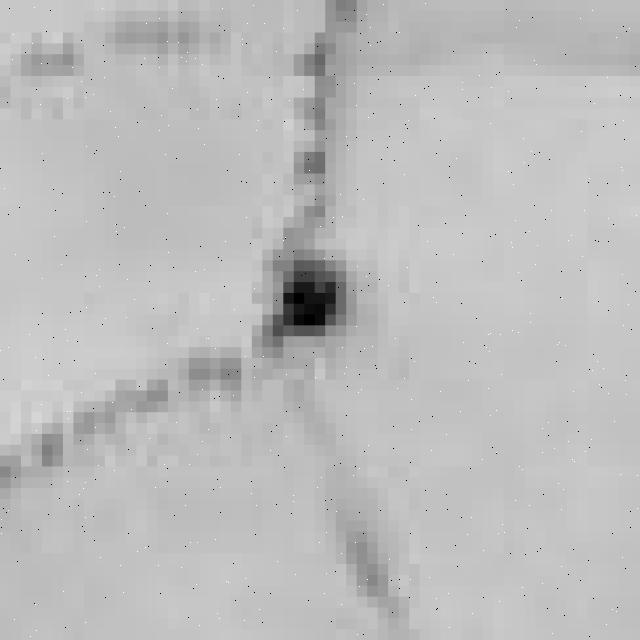good_void: (270, 255, 345, 341)
